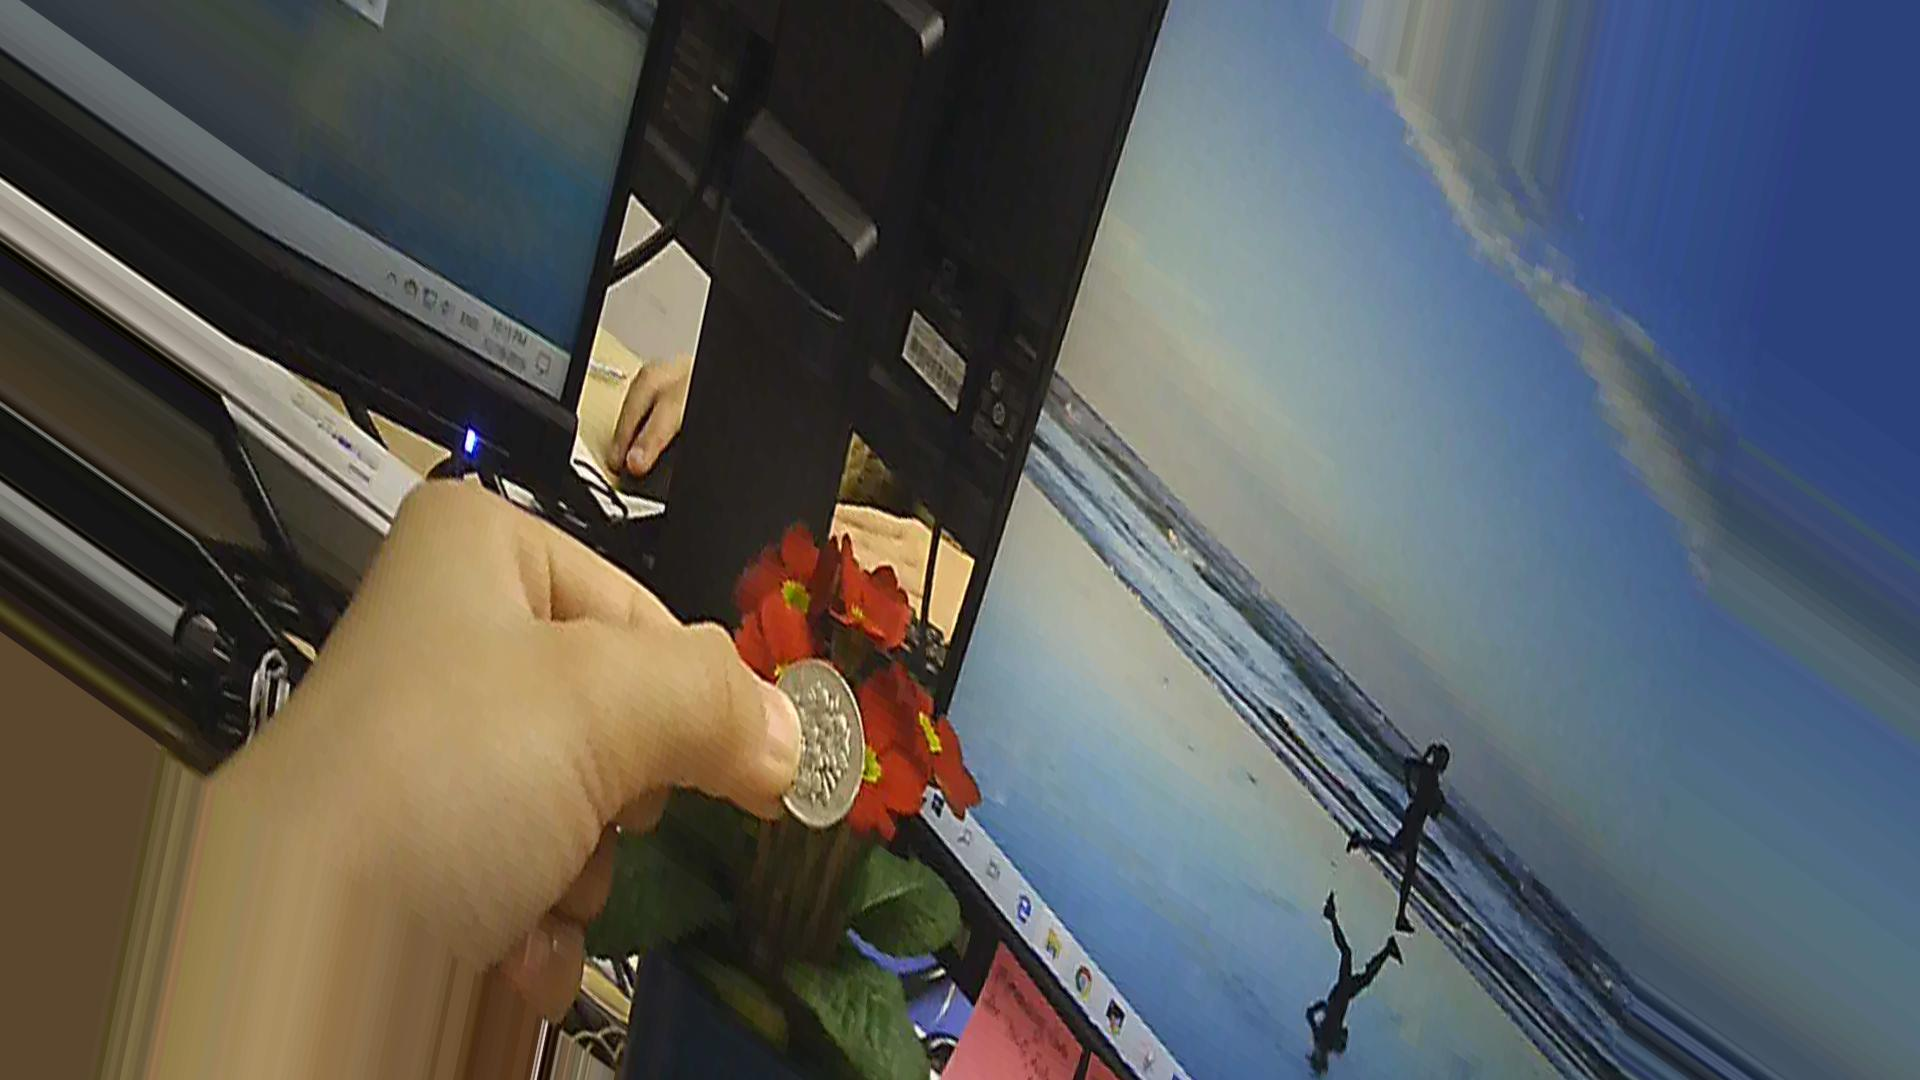100 Yen: (752, 655, 905, 828)
